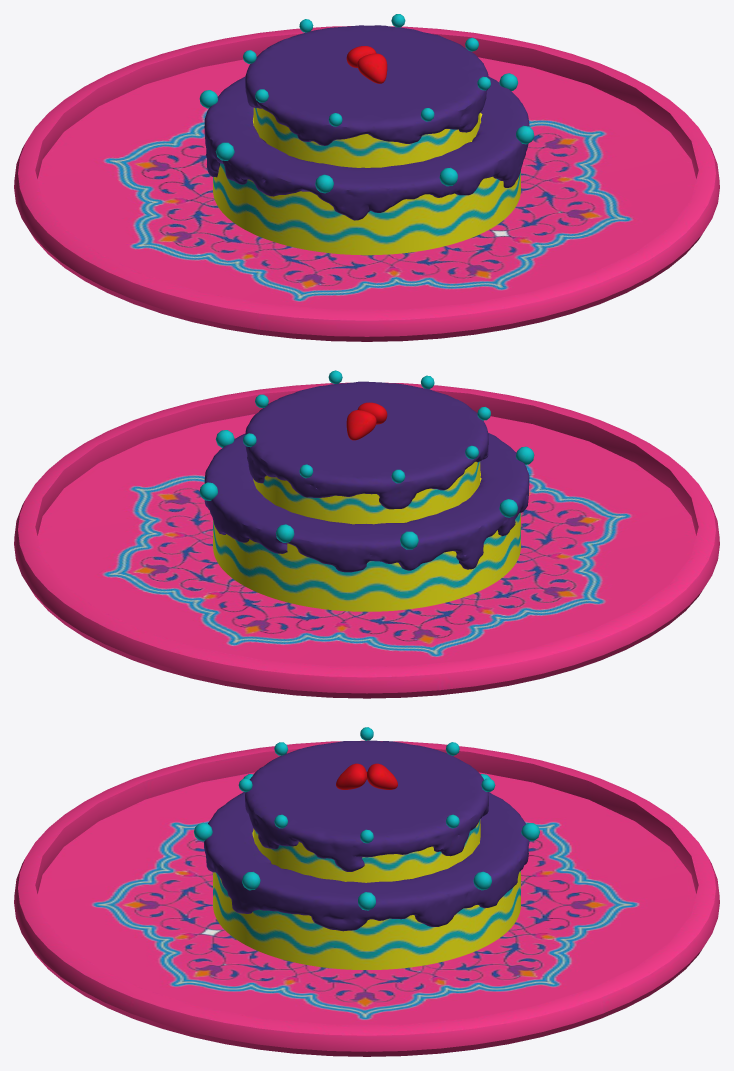
The model's file is Birthday Cake Plates.fbx.
3 views of the same model, one above another, from view 1: azimuth 30°, elevation 25°; view 2: azimuth 150°, elevation 25°; view 3: azimuth 270°, elevation 25° (orthographic).
Visible parts, largest first — view 1: cake plate; view 2: cake plate; view 3: cake plate.
Boxes of the visible parts, x1,y1,x2,y2 form: cake plate: (14, 14, 719, 341); cake plate: (14, 370, 719, 698); cake plate: (14, 727, 719, 1056).
Bounding box in the file's own units: 66.63 × 15.52 × 66.63.
Materials: 1 (1 with a texture image).
